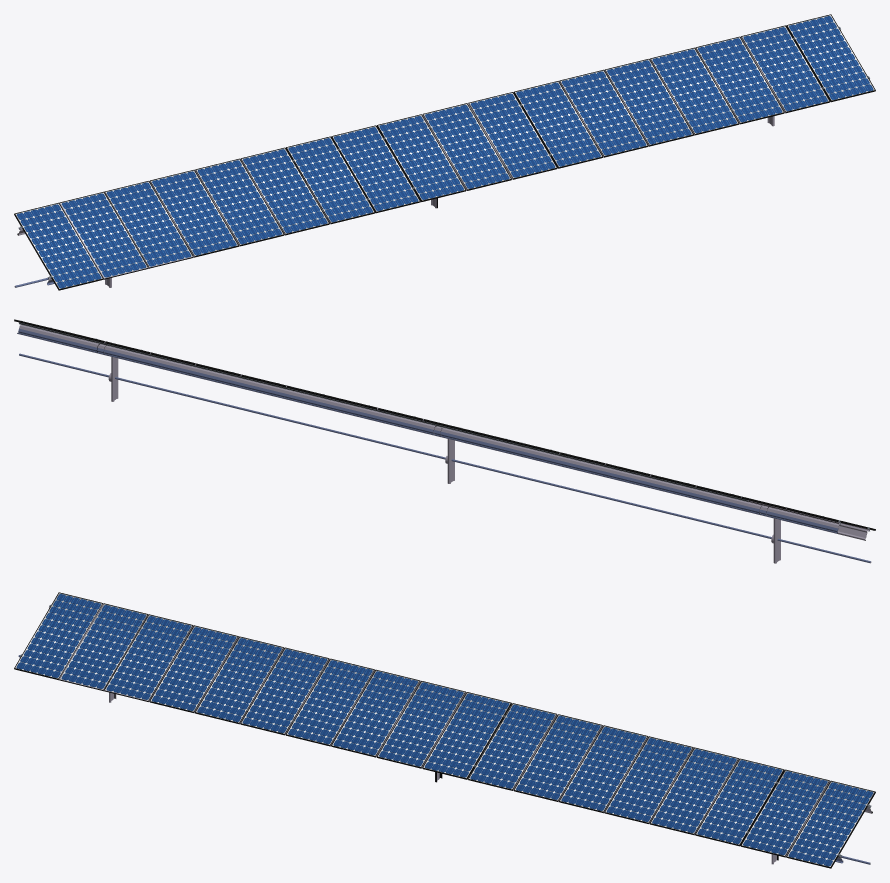
File: Panel32m.glb
3 views of the same model, one above another, from view 1: azimuth 30°, elevation 25°; view 2: azimuth 150°, elevation 25°; view 3: azimuth 330°, elevation 25° (orthographic).
Parts seen in each view (by area): view 1: Cylinder.001; view 2: Cylinder.001; view 3: Cylinder.001.
Boxes of the visible parts, <box> form: Cylinder.001: <box>14,14,875,290</box>; Cylinder.001: <box>14,319,875,563</box>; Cylinder.001: <box>14,592,875,868</box>.
Size of the model in its own units: 33.38 by 2.83 by 3.07.
22 materials, 20 textured.
